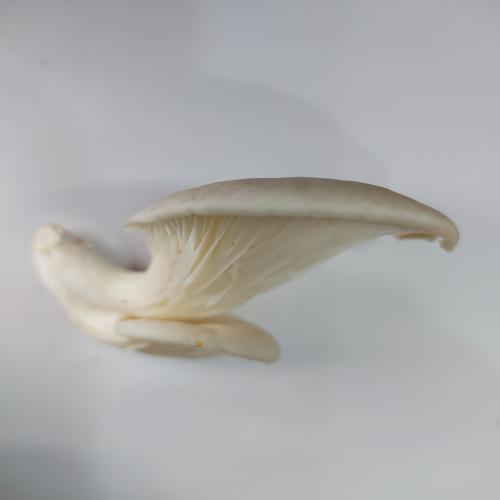Oyster Mushroom: (30, 175, 460, 364)
